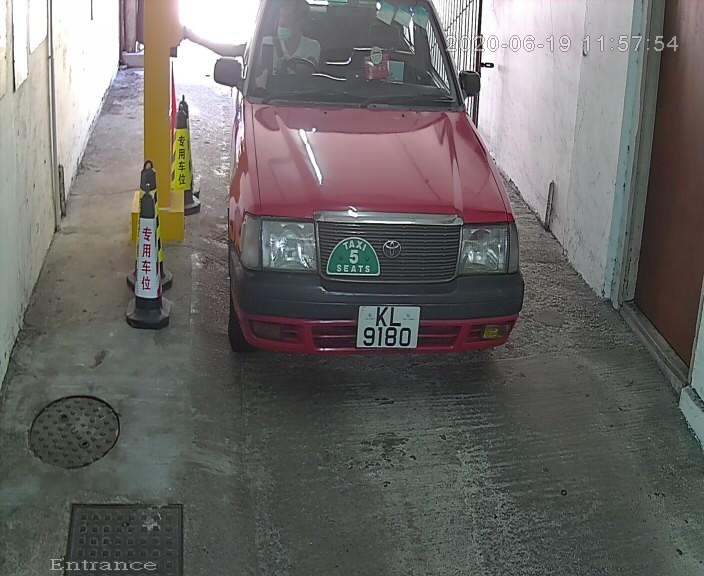taxi: (214, 2, 529, 379)
taxi_mark: (317, 231, 386, 288)
